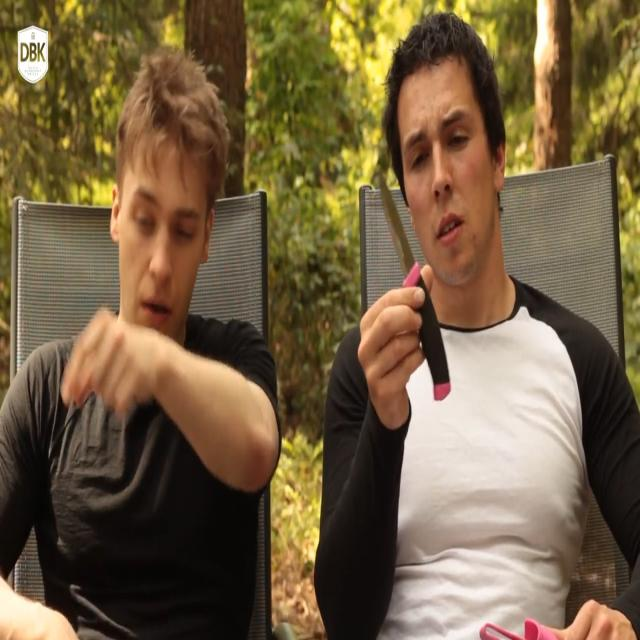knife: (377, 166, 458, 406)
